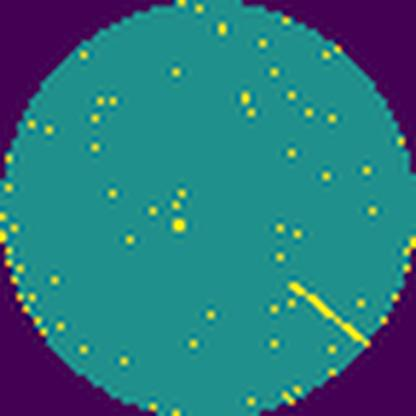Scratch: (286, 278, 368, 348)
